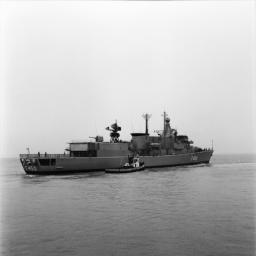Fragata: (20, 109, 218, 178)
